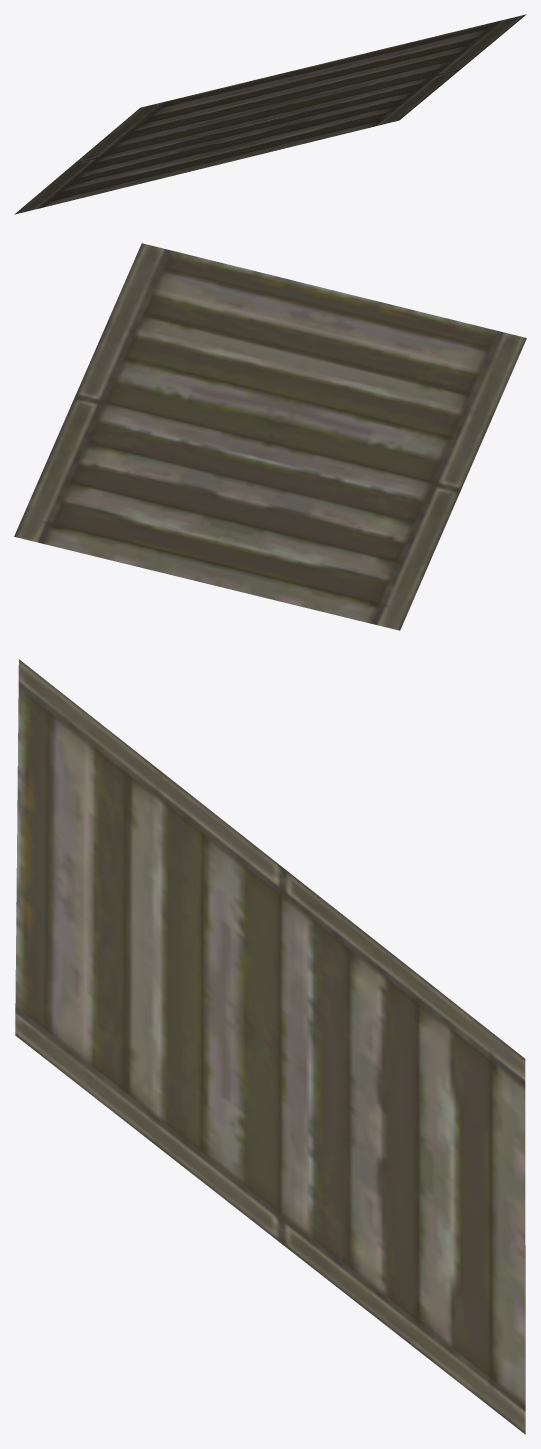
Rendered from jjc_tibu01.FBX.
3 renders of one model, top to bottom at view 1: azimuth 30°, elevation 25°; view 2: azimuth 150°, elevation 25°; view 3: azimuth 270°, elevation 25°, orthographic. The views are drawn at different scales.
Parts seen in each view (by area): view 1: jjc_tibu01_001; view 2: jjc_tibu01_001; view 3: jjc_tibu01_001.
Part boxes in pixels (box(x1,y1,x2,y2)): jjc_tibu01_001: box(14, 14, 526, 214); jjc_tibu01_001: box(14, 243, 526, 630); jjc_tibu01_001: box(15, 659, 525, 1434).
Bounding box in the file's own units: 512 × 253 × 293.
